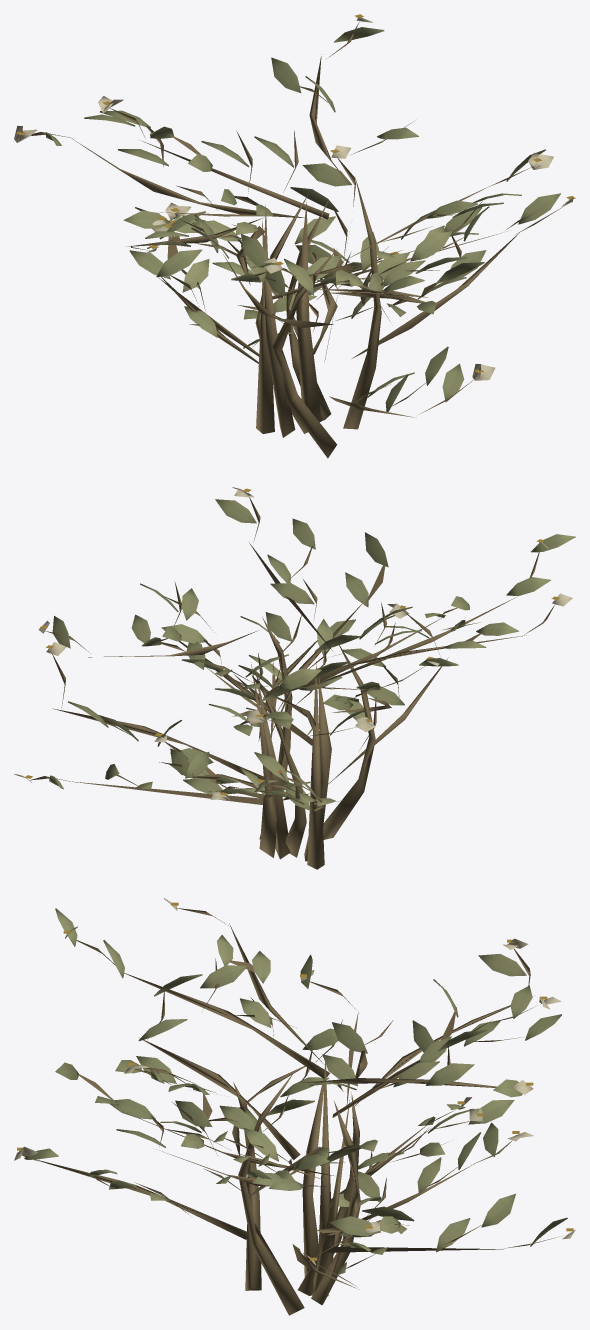
Rendered from Ciste_0_LOD2.fbx.
The picture shows the model from 3 angles, top to bottom: view 1: azimuth 30°, elevation 25°; view 2: azimuth 150°, elevation 25°; view 3: azimuth 270°, elevation 25°; orthographic projection. The views are drawn at different scales.
Visible parts, largest first — view 1: Ciste_0_LOD2; view 2: Ciste_0_LOD2; view 3: Ciste_0_LOD2.
Part boxes in pixels (x1,y1,x2,y2): Ciste_0_LOD2: (14, 14, 575, 458); Ciste_0_LOD2: (14, 487, 575, 869); Ciste_0_LOD2: (14, 898, 575, 1315).
Size of the model in its own units: 145 by 84.29 by 141.
